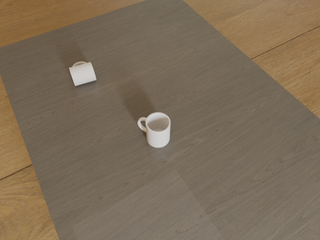cup: (138, 113, 170, 147), (69, 62, 96, 86)
